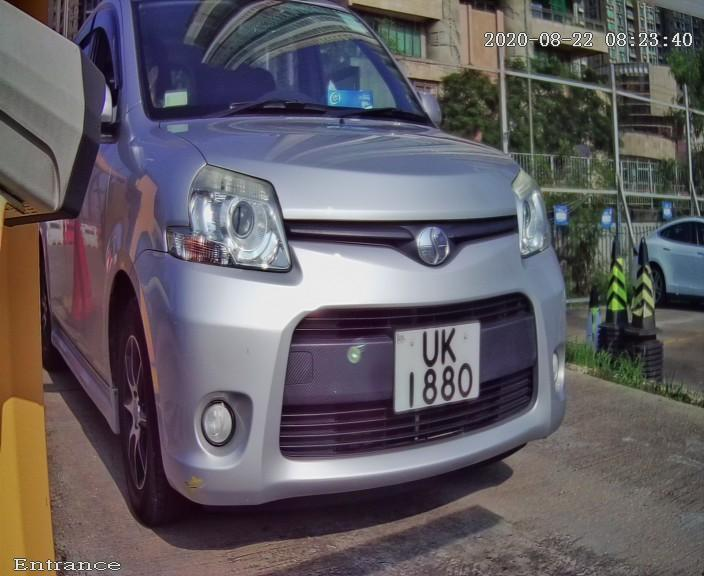License Plate: (387, 314, 491, 422)
